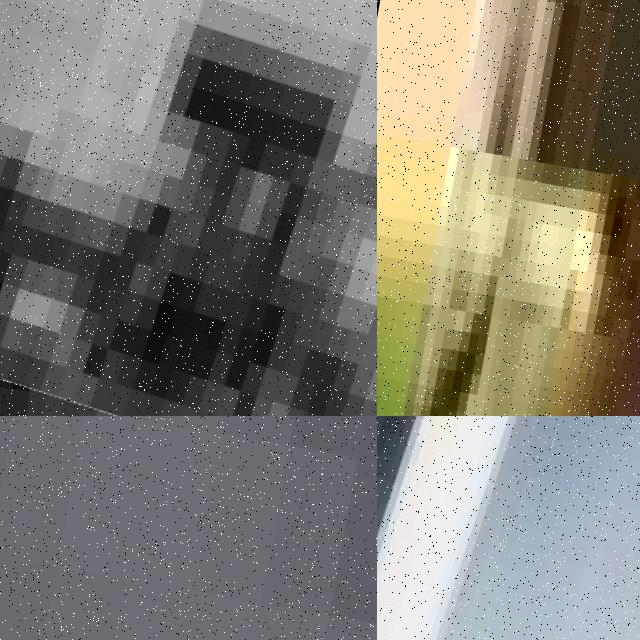0: (0, 0, 377, 416)
drone: (377, 416, 640, 640)
